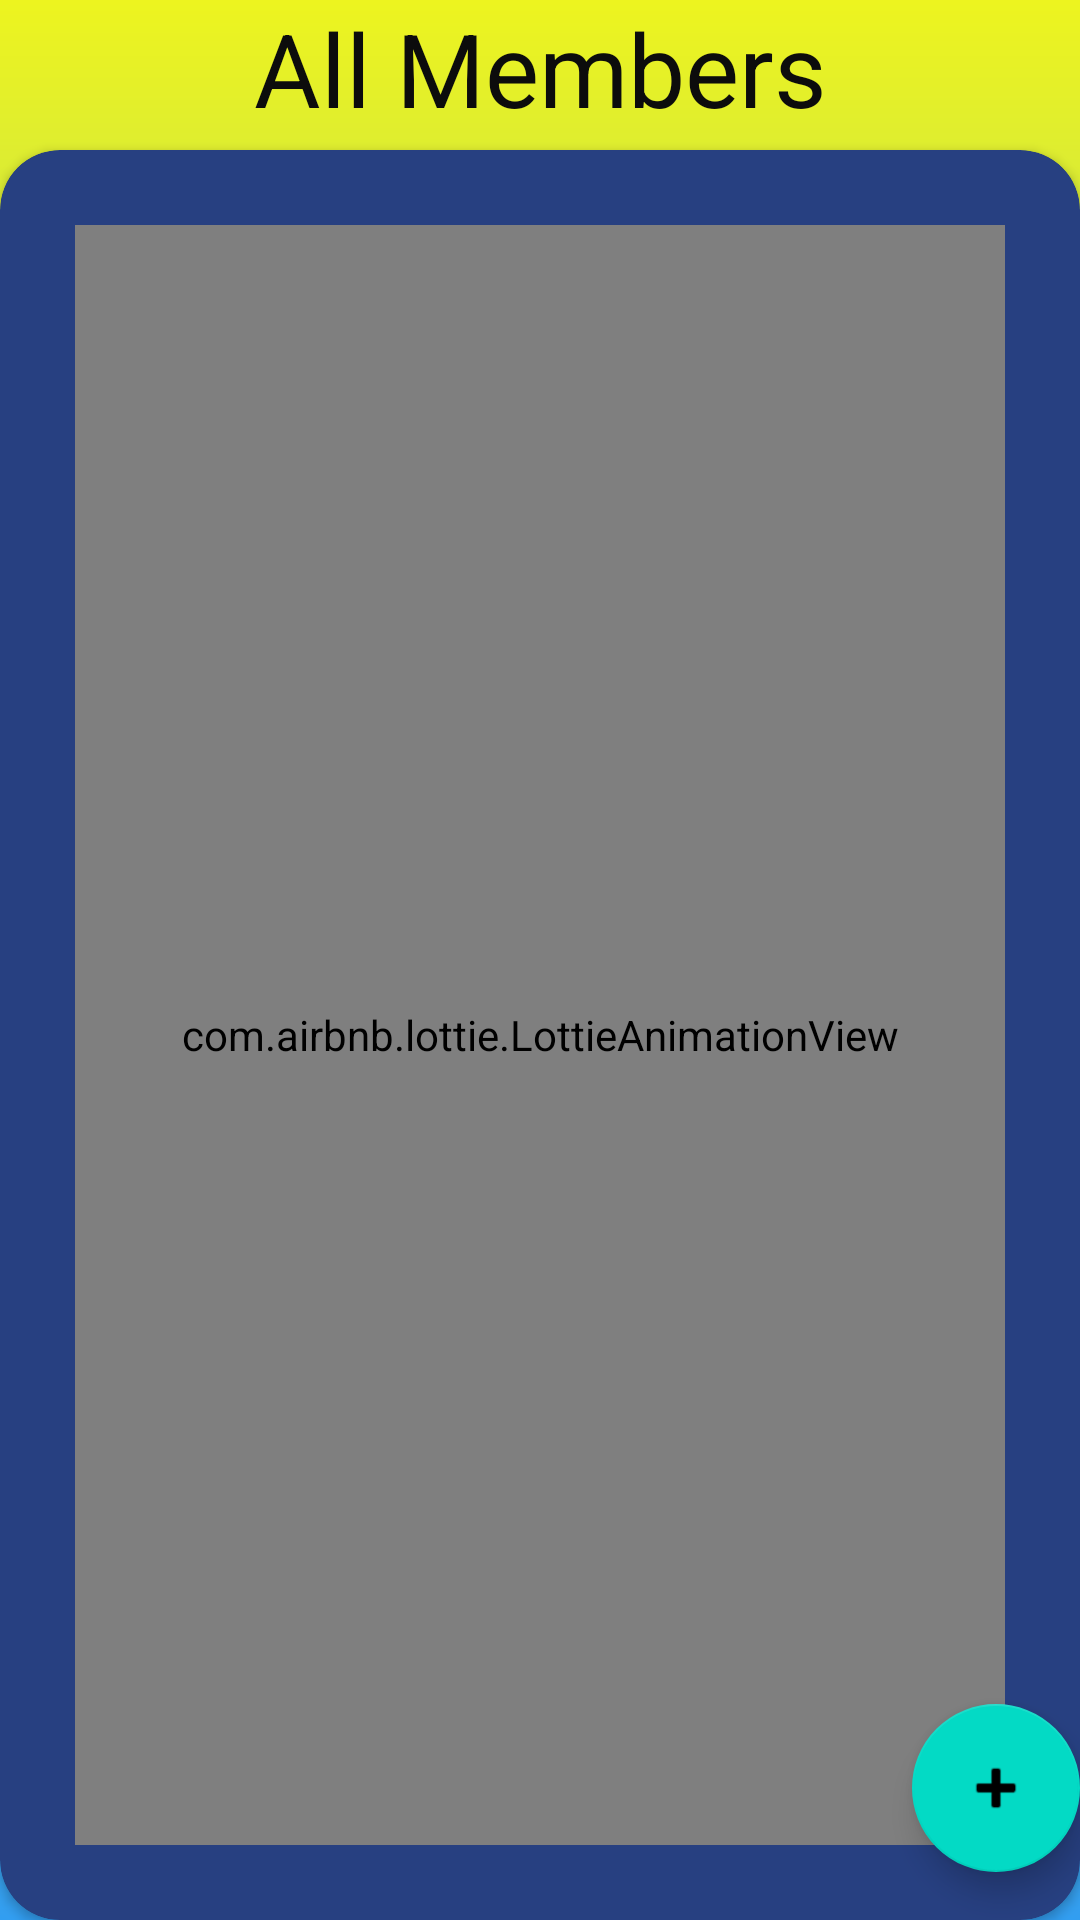

Point at icon controls on the screen. Image size 1080×1920, points as point (x, y).
add: point (996, 1788)
